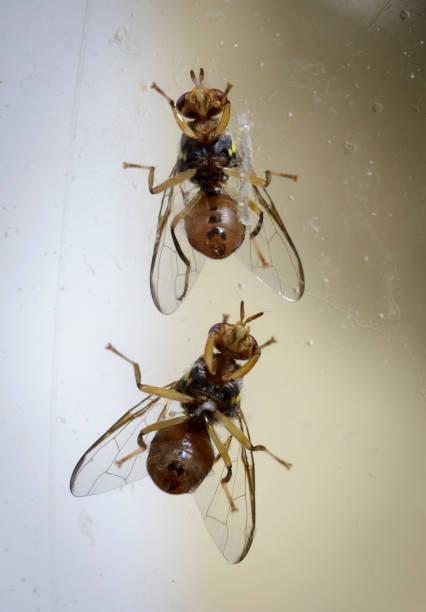Fruit fly: (112, 296, 308, 548), (123, 67, 320, 312)
